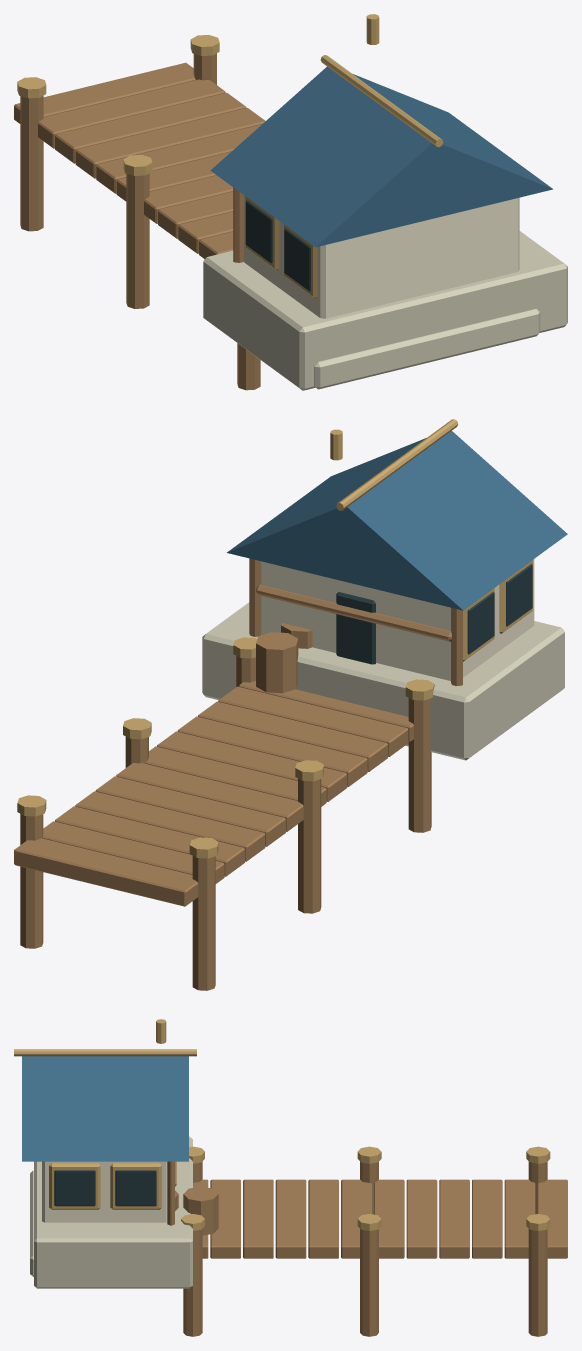
Rendered from level_06.glb.
The picture shows the model from 3 angles, top to bottom: view 1: azimuth 30°, elevation 25°; view 2: azimuth 150°, elevation 25°; view 3: azimuth 270°, elevation 25°; orthographic projection. The views are drawn at different scales.
Visible parts, largest first — view 1: fishing_wharf — level 06; view 2: fishing_wharf — level 06; view 3: fishing_wharf — level 06.
Part boxes in pixels (left/top/right/bottom): fishing_wharf — level 06: left=14, top=14, right=567, bottom=390; fishing_wharf — level 06: left=14, top=419, right=567, bottom=990; fishing_wharf — level 06: left=14, top=1019, right=567, bottom=1336.
Size of the model in its own units: 3.1 by 3.95 by 6.96.
